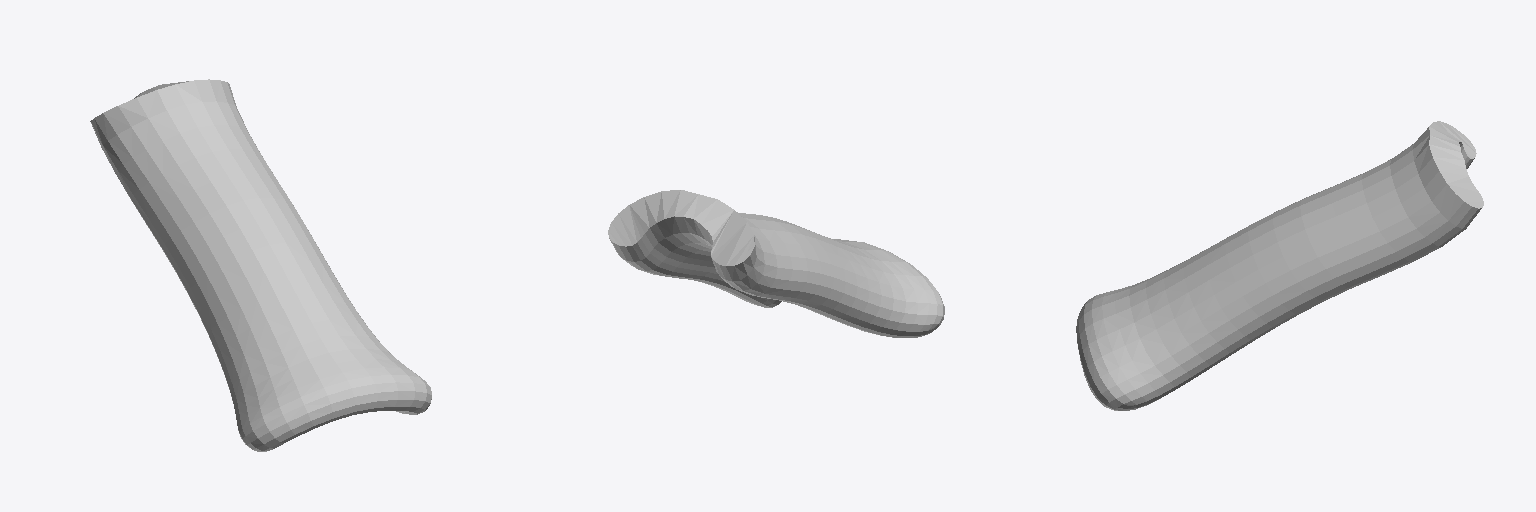
Rendered from toung.obj.
3 views of the same model, side by side, from view 1: azimuth 30°, elevation 25°; view 2: azimuth 150°, elevation 25°; view 3: azimuth 270°, elevation 25° (orthographic).
Visible parts, largest first — view 1: toung_Toung.001; view 2: toung_Toung.001; view 3: toung_Toung.001.
Boxes of the visible parts, x1=… form: toung_Toung.001: x1=90, y1=79, x2=431, y2=451; toung_Toung.001: x1=608, y1=190, x2=944, y2=337; toung_Toung.001: x1=1076, y1=121, x2=1483, y2=410.
Size of the model in its own units: 1.39 by 1.69 by 2.65.